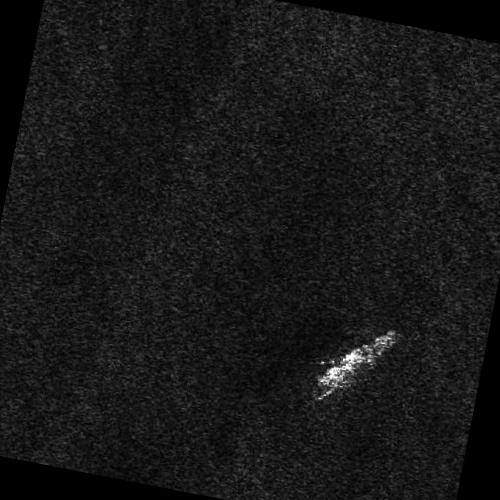ship: (317, 330, 403, 388)
